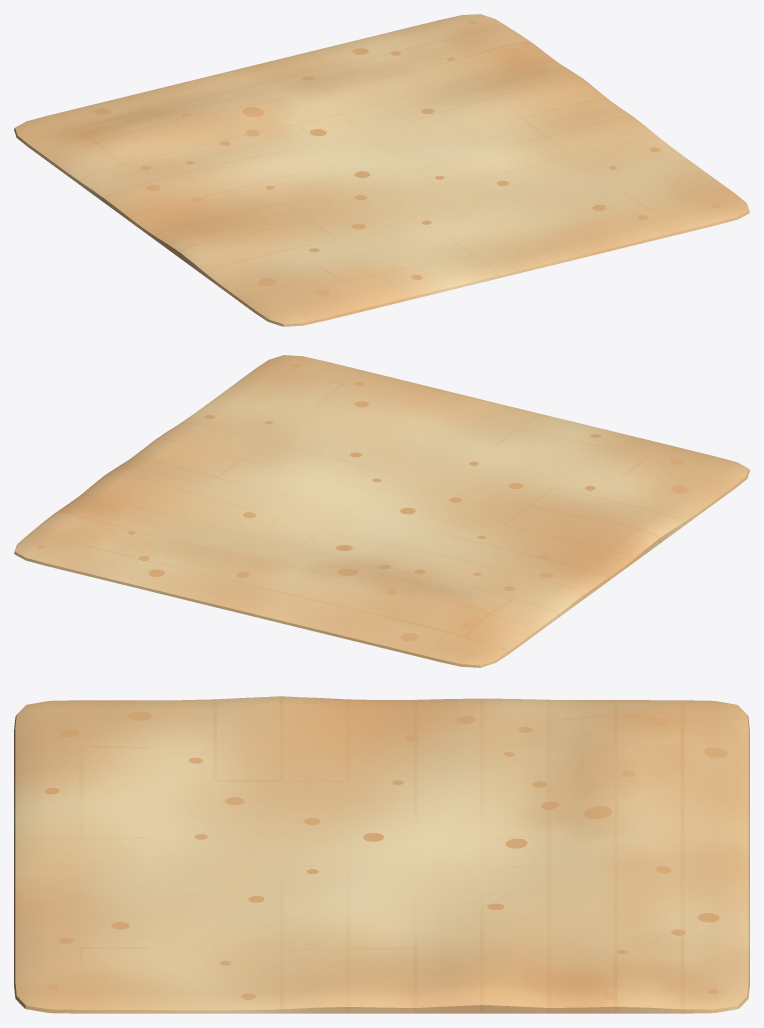
The model's file is Sand.fbx.
The picture shows the model from 3 angles, top to bottom: view 1: azimuth 30°, elevation 25°; view 2: azimuth 150°, elevation 25°; view 3: azimuth 270°, elevation 25°; orthographic projection. The views are drawn at different scales.
Parts seen in each view (by area): view 1: Sand; view 2: Sand; view 3: Sand.
Part boxes in pixels (x1=…): Sand: x1=14, y1=14, x2=749, y2=326; Sand: x1=14, y1=355, x2=749, y2=667; Sand: x1=14, y1=696, x2=749, y2=1013.
Size of the model in its own units: 200 by 5.96 by 200.
